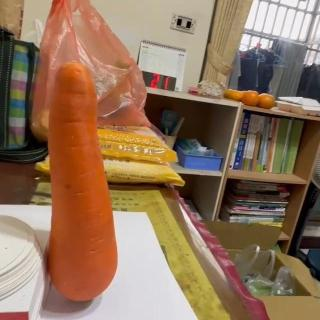carrot: (45, 60, 119, 303)
